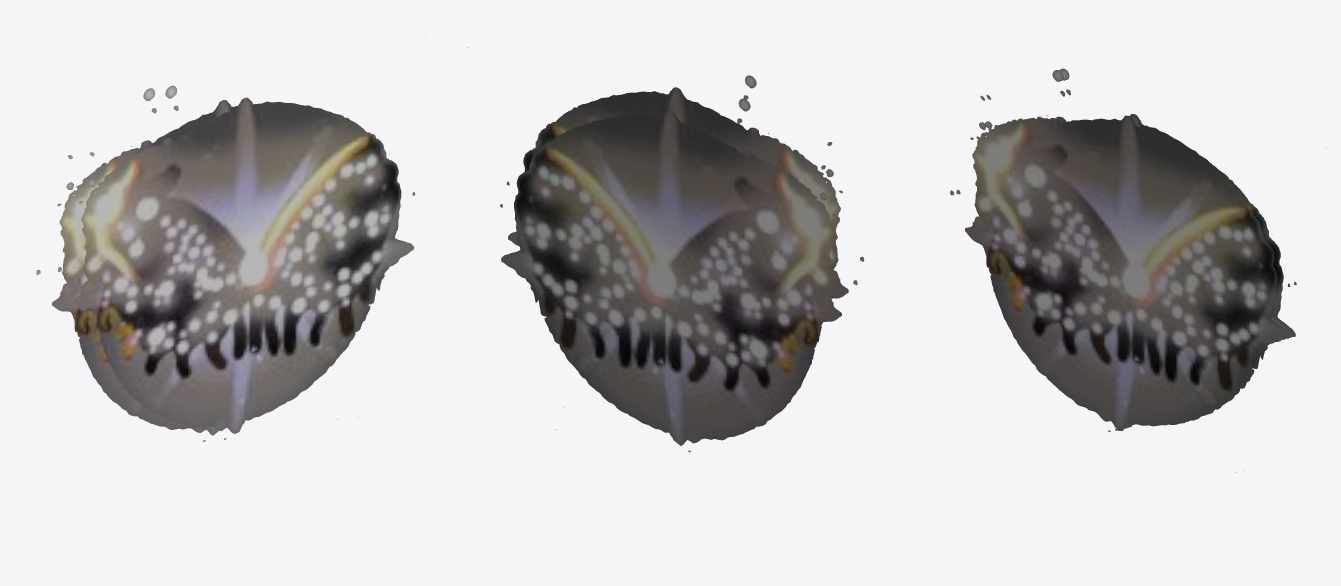
The model's file is SM_QueensTop.fbx.
The picture shows the model from 3 angles, left to right: view 1: azimuth 30°, elevation 25°; view 2: azimuth 150°, elevation 25°; view 3: azimuth 330°, elevation 25°; orthographic projection. The views are drawn at different scales.
Visible parts, largest first — view 1: SM_QueensTop; view 2: SM_QueensTop; view 3: SM_QueensTop.
Part boxes in pixels (bbox=[...]): SM_QueensTop: bbox=[36, 37, 425, 441]; SM_QueensTop: bbox=[468, 47, 864, 452]; SM_QueensTop: bbox=[950, 68, 1326, 472].
Bounding box in the file's own units: 0.6661 × 0.7393 × 0.0395.
